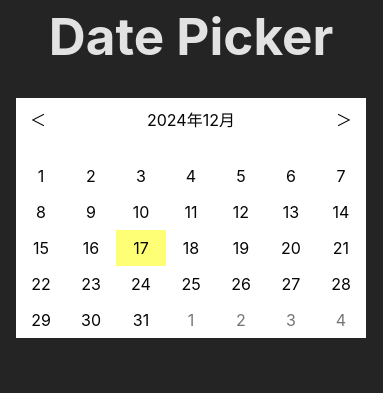
A truthy statement › Should highlight selected date range
Click the list item "10" at (141, 212), box [116, 194, 166, 230]
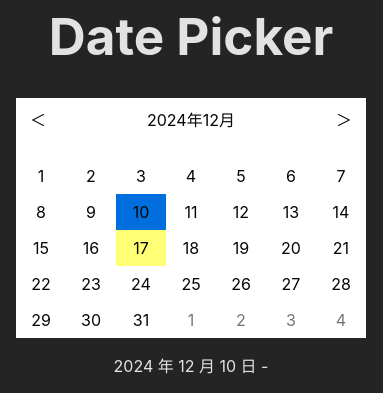
Result: the text with test id "date-select-range" reads "2024 年 12 月 10 日 -" at [114, 356, 268, 376]
Click the list item "15" at (41, 248), box [16, 230, 66, 266]
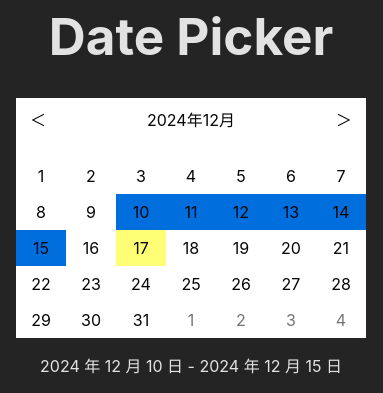
Result: the text with test id "date-select-range" reads "2024 年 12 月 10 日 - 2024 年 12 月 15 日" at [40, 356, 342, 376]
